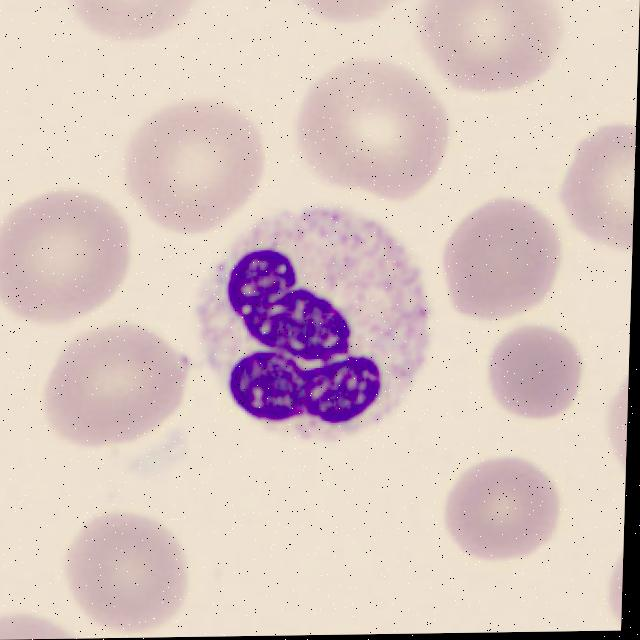neutrophil: (187, 191, 434, 451)
rbc: (289, 59, 455, 203), (107, 109, 270, 227), (0, 187, 131, 321), (39, 324, 185, 436), (424, 0, 570, 98), (436, 198, 558, 314), (68, 512, 186, 629), (439, 460, 562, 557), (476, 319, 587, 413), (558, 131, 636, 255), (45, 0, 209, 38), (0, 605, 101, 640), (601, 367, 629, 488), (305, 0, 407, 25), (597, 551, 623, 631)
